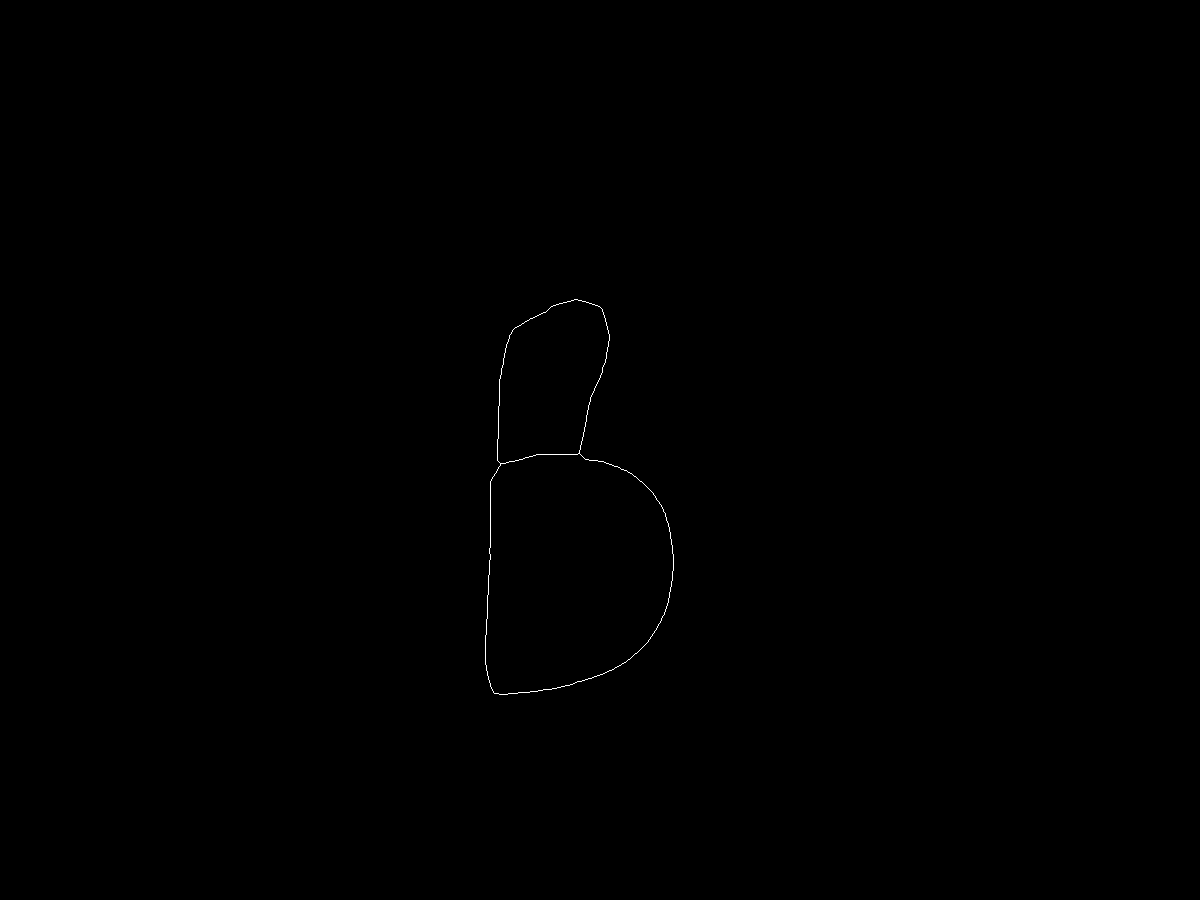dian1: (501, 323, 517, 339)
dian2: (486, 457, 502, 473)
dian3: (480, 675, 501, 696)
dian4: (571, 447, 586, 462)
